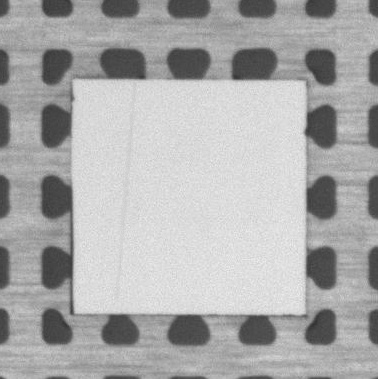DIE_CRACK: (117, 84, 135, 298)
